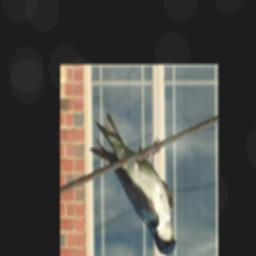Swallow: (88, 111, 177, 256)
